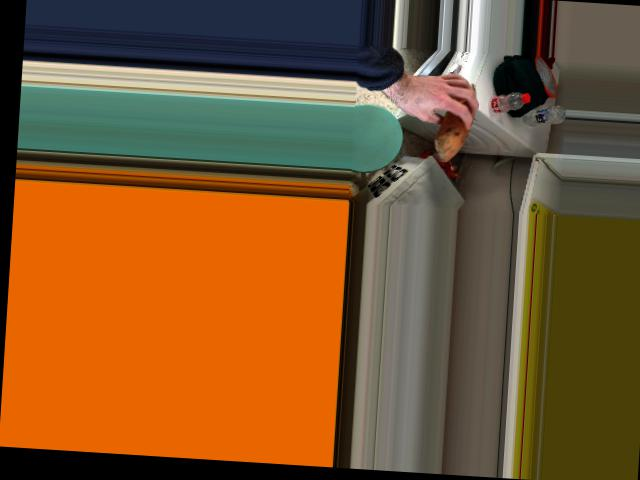sweet_potato: (436, 77, 478, 161)
